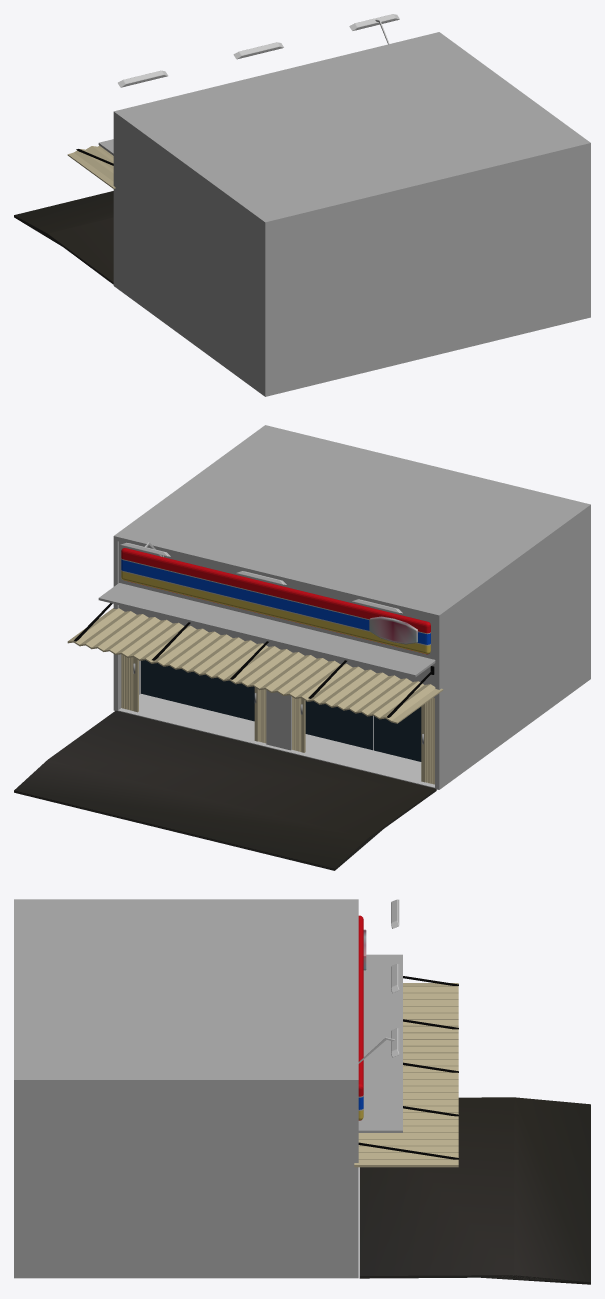
Rendered from indomaret.glb.
3 views of the same model, one above another, from view 1: azimuth 30°, elevation 25°; view 2: azimuth 150°, elevation 25°; view 3: azimuth 270°, elevation 25° (orthographic). The views are drawn at different scales.
Parts seen in each view (by area): view 1: indomaret; view 2: indomaret; view 3: indomaret.
Part boxes in pixels (<box>): indomaret: <box>14,14,590,396</box>; indomaret: <box>14,425,590,870</box>; indomaret: <box>14,899,590,1284</box>.
Size of the model in its own units: 9.19 by 5.21 by 12.26.
